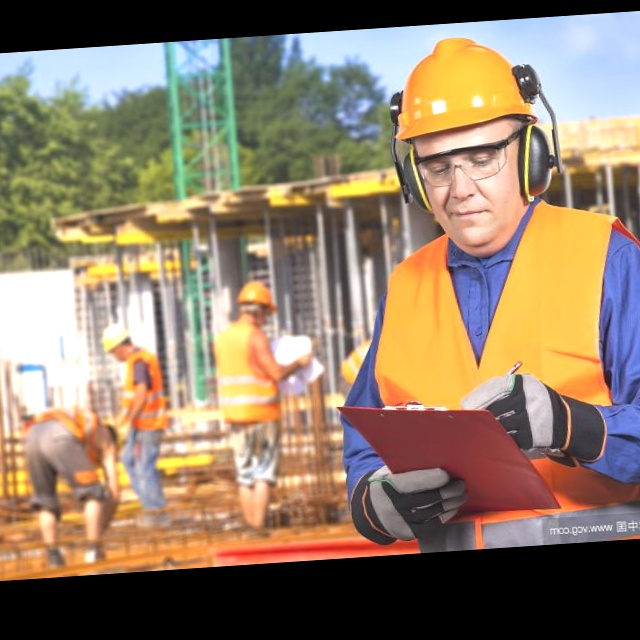Con_Casco: (394, 34, 541, 258)
Con_Chaleco: (366, 202, 640, 545), (208, 323, 274, 426), (114, 348, 171, 433)
